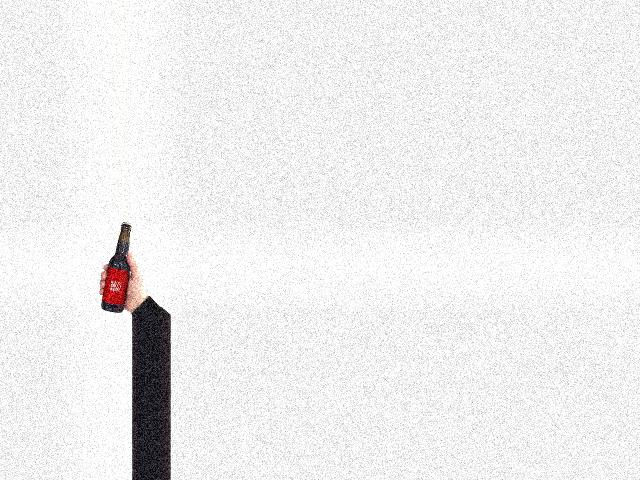beer: (100, 221, 131, 312)
